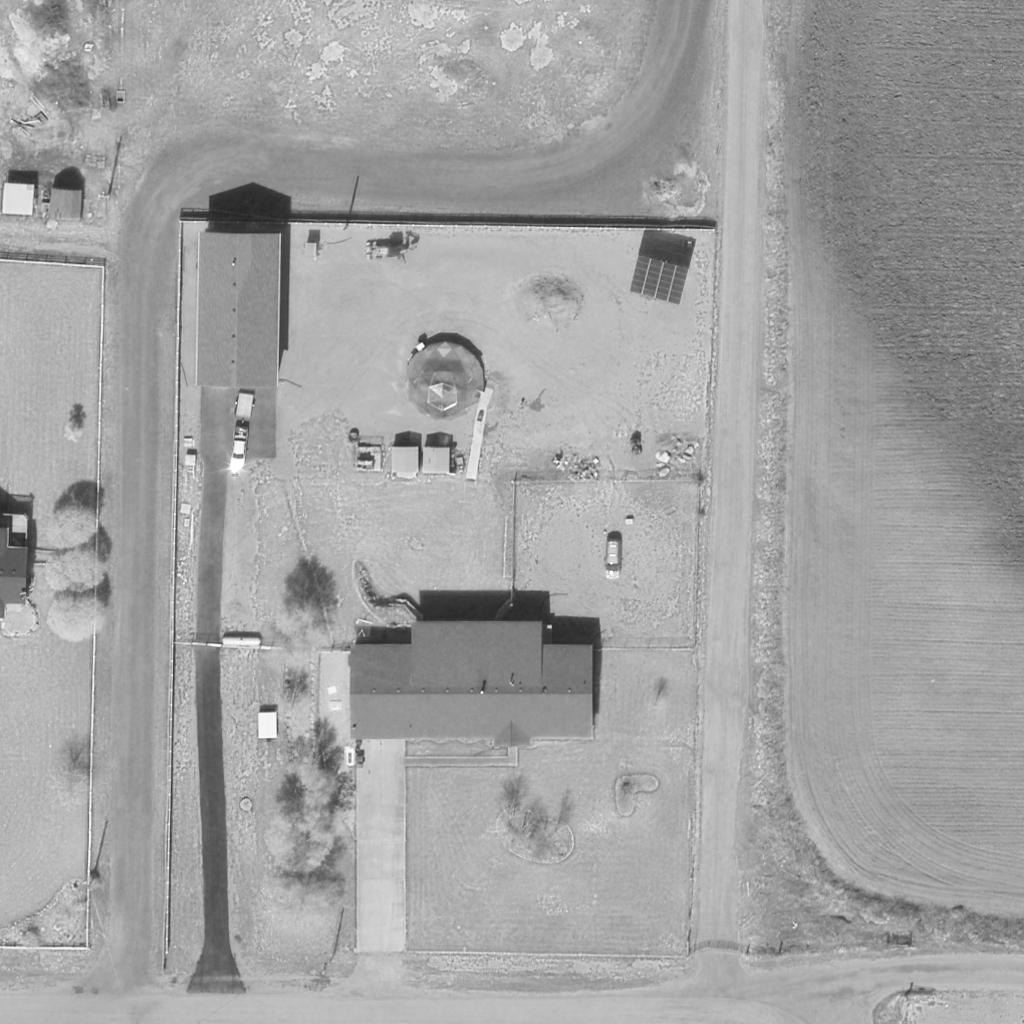vehicle: (232, 427, 250, 469), (606, 540, 622, 580)
